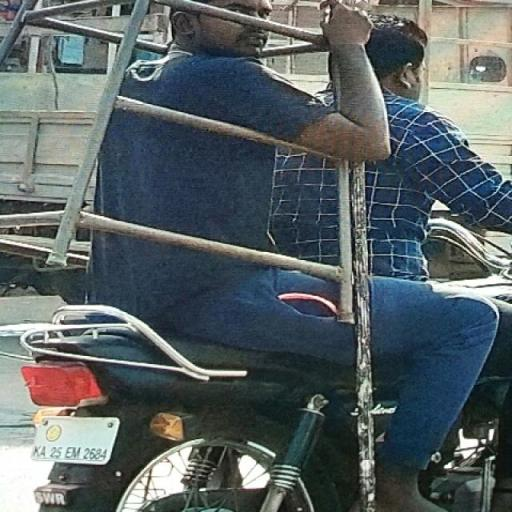bike: (12, 1, 510, 512)
numberplate: (32, 416, 118, 462)
withouthelmet: (168, 0, 274, 51), (368, 18, 426, 96)
